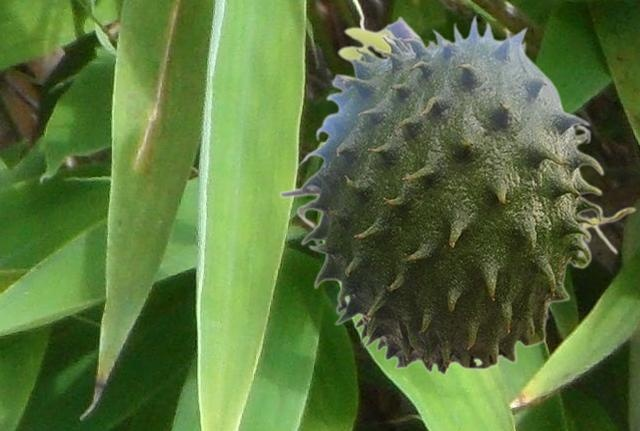guyabano: (278, 12, 636, 376)
